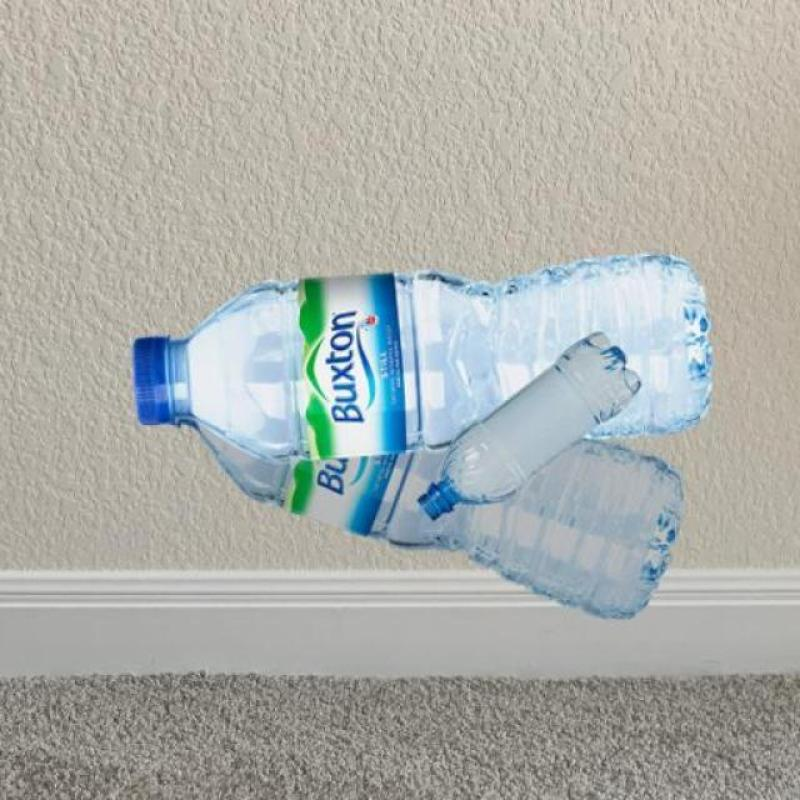botella: (134, 251, 715, 450), (187, 425, 687, 623), (416, 333, 642, 522)
